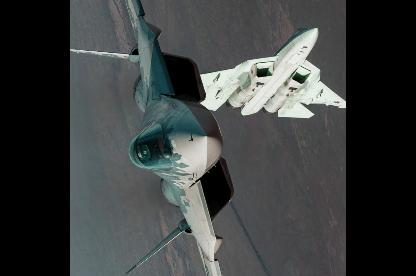SR71: (70, 0, 242, 273), (200, 26, 345, 117)
